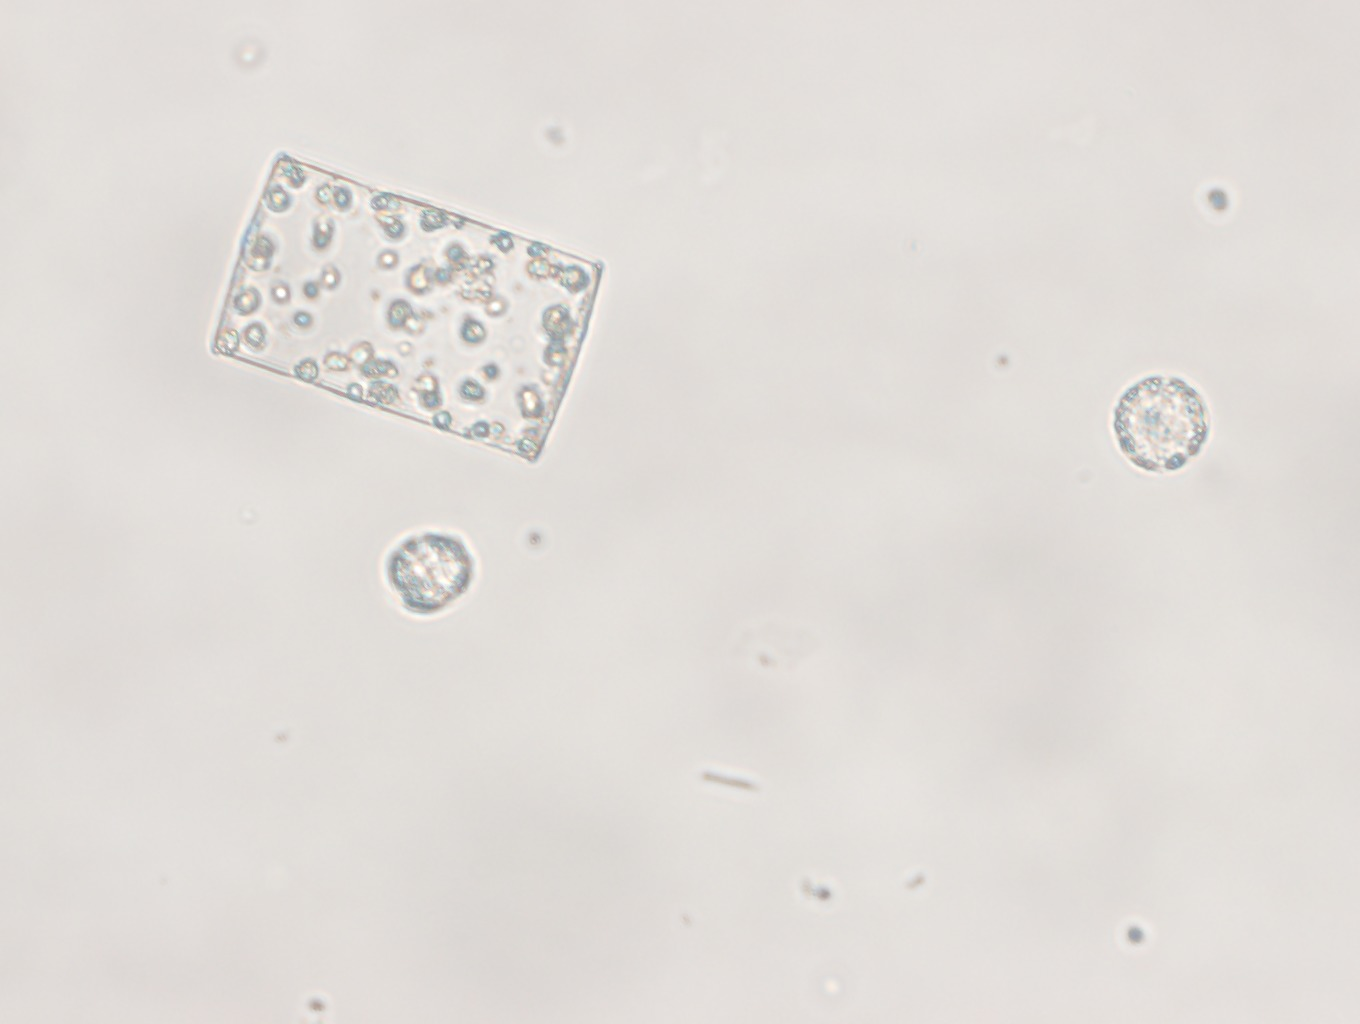guinardia flaccida: (209, 150, 606, 465)
